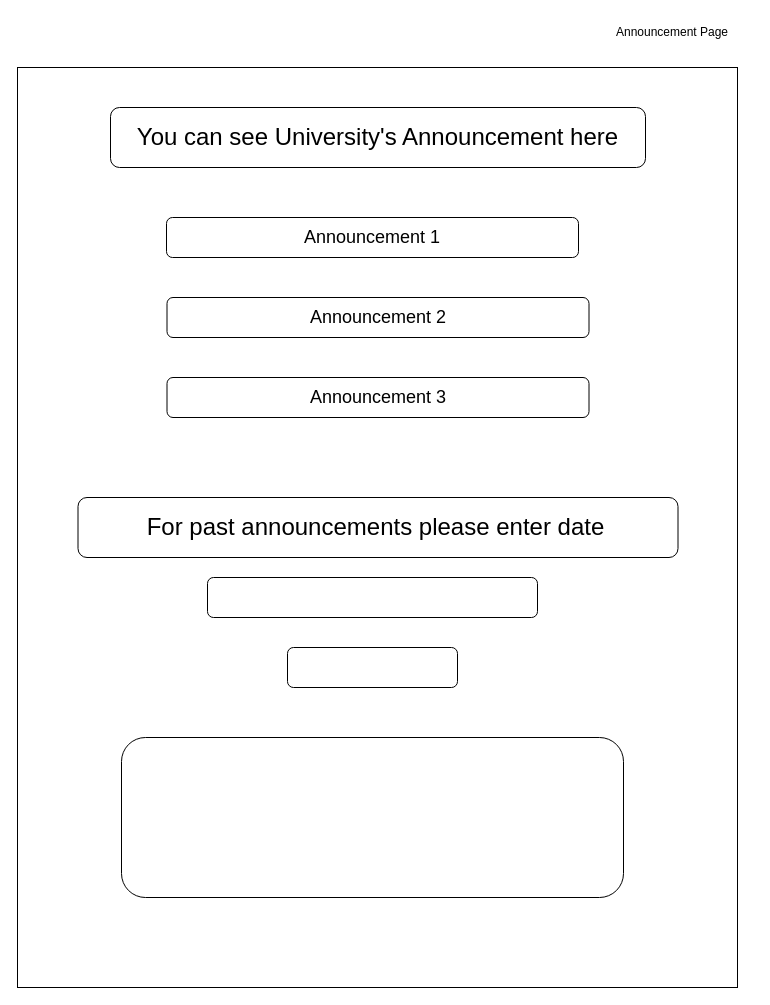
Some shapes in this 770 by 1005 pixel diagram are drawn without their labels. The box of each missing label's shape, as (x1, y1, x2, y2) in pixels:
Announcement: (120, 736, 624, 898)
Enter Date: (206, 576, 538, 618)
Submit: (286, 646, 458, 688)
